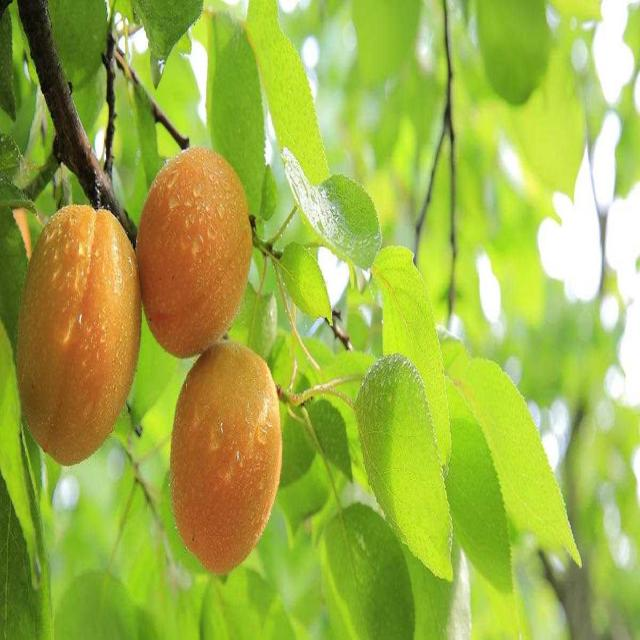kayisi: (44, 219, 118, 415), (151, 167, 243, 311)
yaprak: (290, 151, 382, 299), (382, 364, 434, 523)
